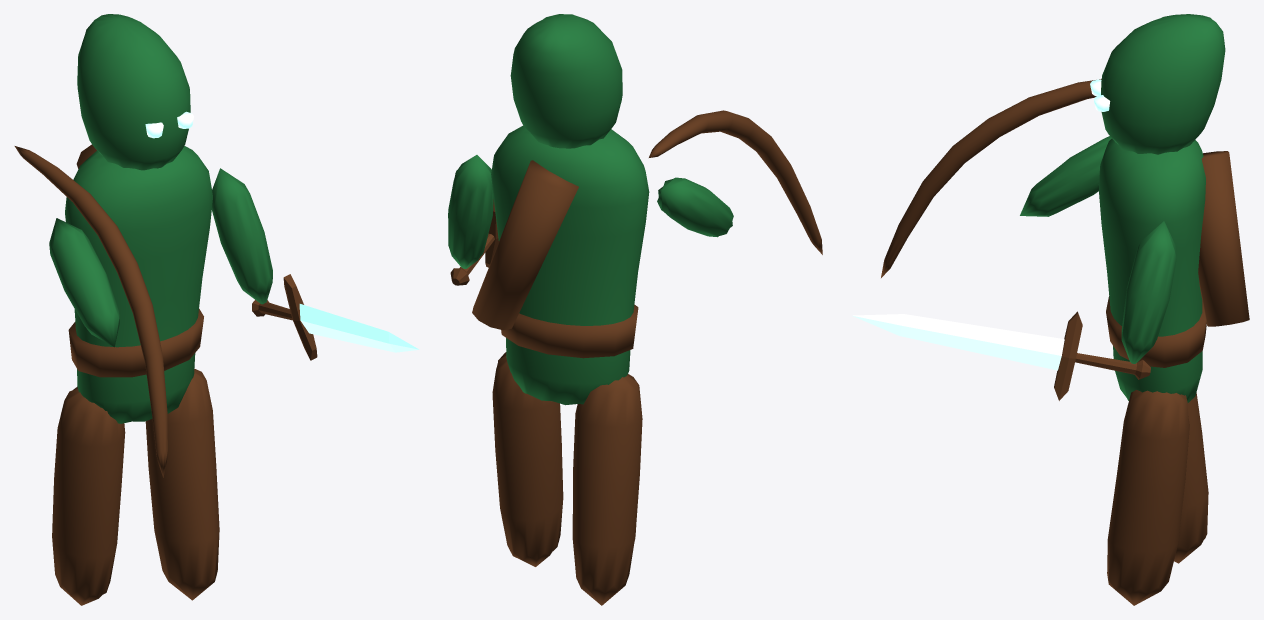
Rendered from archer.glb.
3 views of the same model, side by side, from view 1: azimuth 30°, elevation 25°; view 2: azimuth 150°, elevation 25°; view 3: azimuth 270°, elevation 25° (orthographic).
Parts seen in each view (by area): view 1: Tunic, Hood, Leg_L, Leg_R, ElvenBow, Arm_R, Arm_L, Belt, EnergyArrow, EnergyArrow_Guard; view 2: Tunic, Leg_L, Hood, Leg_R, Quiver, ElvenBow, Belt, Arm_R, Arm_L; view 3: Tunic, Hood, Leg_R, Quiver, ElvenBow, EnergyArrow, Arm_R, Arm_L, Leg_L, Belt, EnergyArrow_Guard, EnergyArrow_Grip.
Boxes of the visible parts, left/top/right/bottom form: Tunic: left=65, top=146, right=212, bottom=423; Hood: left=77, top=14, right=190, bottom=170; Leg_L: left=52, top=386, right=125, bottom=605; Leg_R: left=145, top=368, right=219, bottom=600; ElvenBow: left=14, top=146, right=167, bottom=477; Arm_R: left=212, top=168, right=272, bottom=304; Arm_L: left=49, top=218, right=119, bottom=347; Belt: left=68, top=308, right=203, bottom=377; EnergyArrow: left=299, top=304, right=419, bottom=352; EnergyArrow_Guard: left=283, top=274, right=317, bottom=360; Tunic: left=491, top=126, right=649, bottom=405; Leg_L: left=572, top=374, right=642, bottom=605; Hood: left=510, top=14, right=622, bottom=148; Leg_R: left=492, top=352, right=563, bottom=566; Quiver: left=472, top=160, right=578, bottom=330; ElvenBow: left=649, top=110, right=822, bottom=254; Belt: left=501, top=304, right=638, bottom=358; Arm_R: left=448, top=155, right=493, bottom=268; Arm_L: left=657, top=177, right=733, bottom=237; Tunic: left=1098, top=138, right=1205, bottom=402; Hood: left=1101, top=14, right=1225, bottom=154; Leg_R: left=1107, top=390, right=1189, bottom=605; Quiver: left=1198, top=151, right=1249, bottom=326; ElvenBow: left=881, top=79, right=1101, bottom=277; EnergyArrow: left=852, top=314, right=1064, bottom=370; Arm_R: left=1121, top=221, right=1176, bottom=363; Arm_L: left=1020, top=136, right=1111, bottom=216; Leg_L: left=1174, top=392, right=1208, bottom=563; Belt: left=1106, top=296, right=1206, bottom=367; EnergyArrow_Guard: left=1054, top=311, right=1082, bottom=400; EnergyArrow_Grip: left=1075, top=353, right=1136, bottom=374.
Bounding box in the file's own units: 0.762 × 1.69 × 1.08.
Materials: 3 (3 with a texture image).
